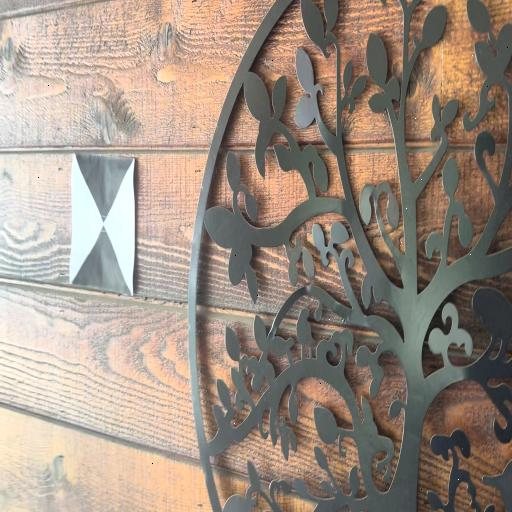target: (69, 154, 136, 294)
